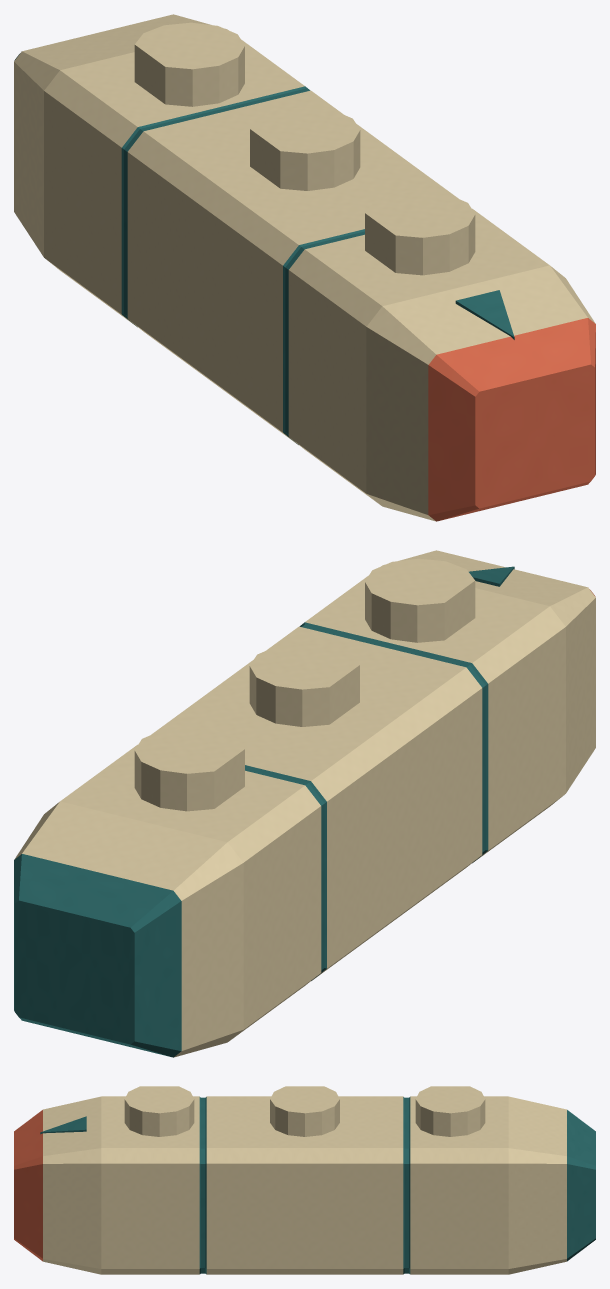
File: pontoon-lod-1.glb
The picture shows the model from 3 angles, top to bottom: view 1: azimuth 30°, elevation 25°; view 2: azimuth 150°, elevation 25°; view 3: azimuth 270°, elevation 25°; orthographic projection. The views are drawn at different scales.
Parts seen in each view (by area): view 1: pontoon_shell_lod1; view 2: pontoon_shell_lod1; view 3: pontoon_shell_lod1.
Part boxes in pixels (x1=…): pontoon_shell_lod1: x1=14, y1=14, x2=595, y2=521; pontoon_shell_lod1: x1=14, y1=550, x2=595, y2=1057; pontoon_shell_lod1: x1=14, y1=1086, x2=595, y2=1274.
Bounding box in the file's own units: 1 × 1.14 × 4.
1 material, 1 textured.
